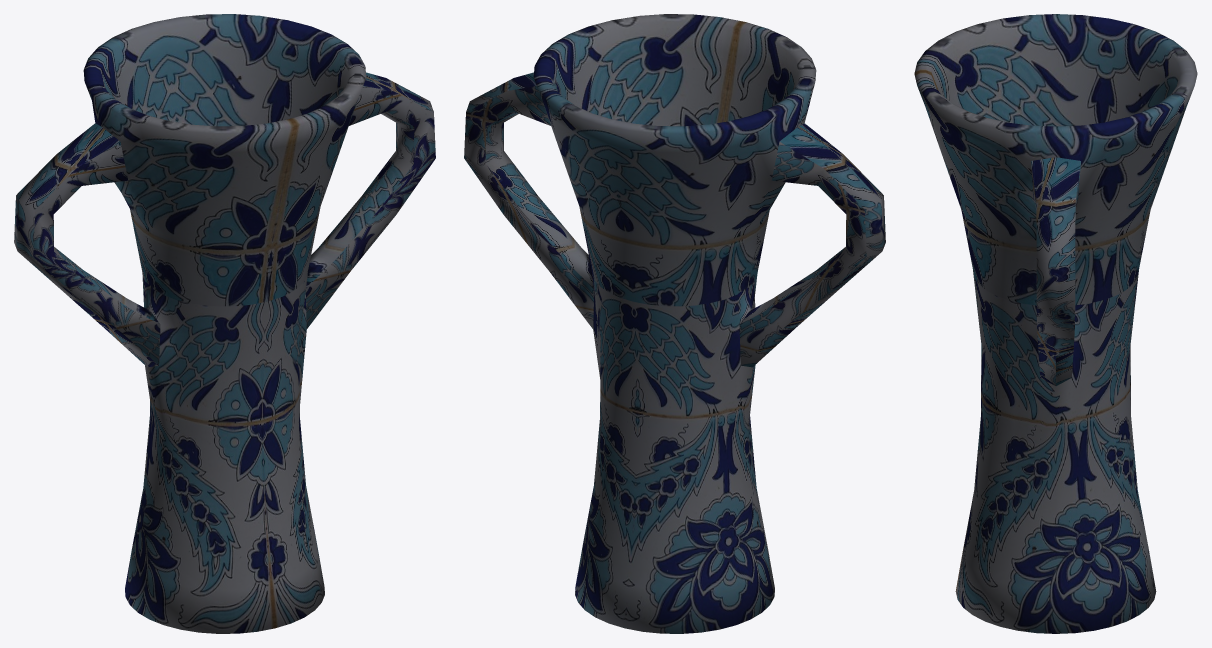
Rendered from obj_vase_1e7c24.glb.
3 renders of one model, left to right at view 1: azimuth 30°, elevation 25°; view 2: azimuth 150°, elevation 25°; view 3: azimuth 270°, elevation 25°, orthographic.
Visible parts, largest first — view 1: obj_vase_1e7c24; view 2: obj_vase_1e7c24; view 3: obj_vase_1e7c24.
Part boxes in pixels (x1=…): obj_vase_1e7c24: x1=14, y1=14, x2=435, y2=633; obj_vase_1e7c24: x1=464, y1=14, x2=885, y2=633; obj_vase_1e7c24: x1=914, y1=14, x2=1197, y2=633.
Bounding box in the file's own units: 0.2873 × 0.35 × 0.1698.
Materials: 1 (1 with a texture image).
